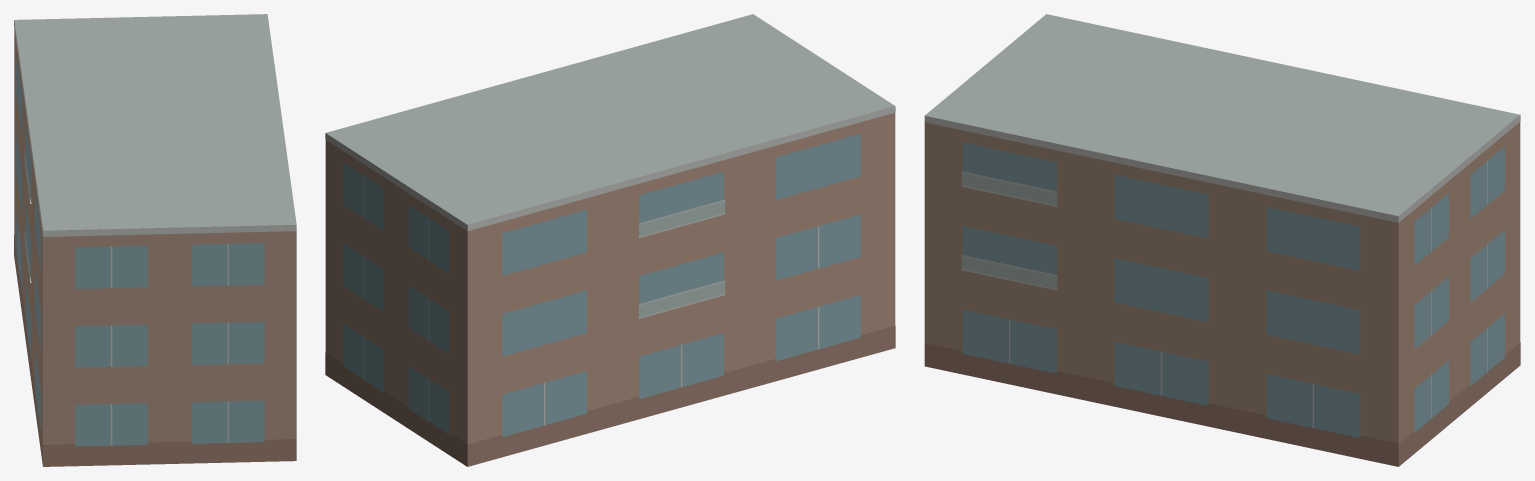
File: survey-upis-32705019.glb
3 views of the same model, side by side, from view 1: azimuth 30°, elevation 25°; view 2: azimuth 150°, elevation 25°; view 3: azimuth 270°, elevation 25° (orthographic). The views are drawn at different scales.
Parts seen in each view (by area): view 1: survey-upis-32705019.tmp; view 2: survey-upis-32705019.tmp; view 3: survey-upis-32705019.tmp.
Boxes of the visible parts, left/top/right/bottom form: survey-upis-32705019.tmp: left=14, top=14, right=296, bottom=466; survey-upis-32705019.tmp: left=325, top=14, right=895, bottom=466; survey-upis-32705019.tmp: left=924, top=14, right=1520, bottom=466.
Size of the model in its own units: 15.84 by 9.15 by 19.72.
